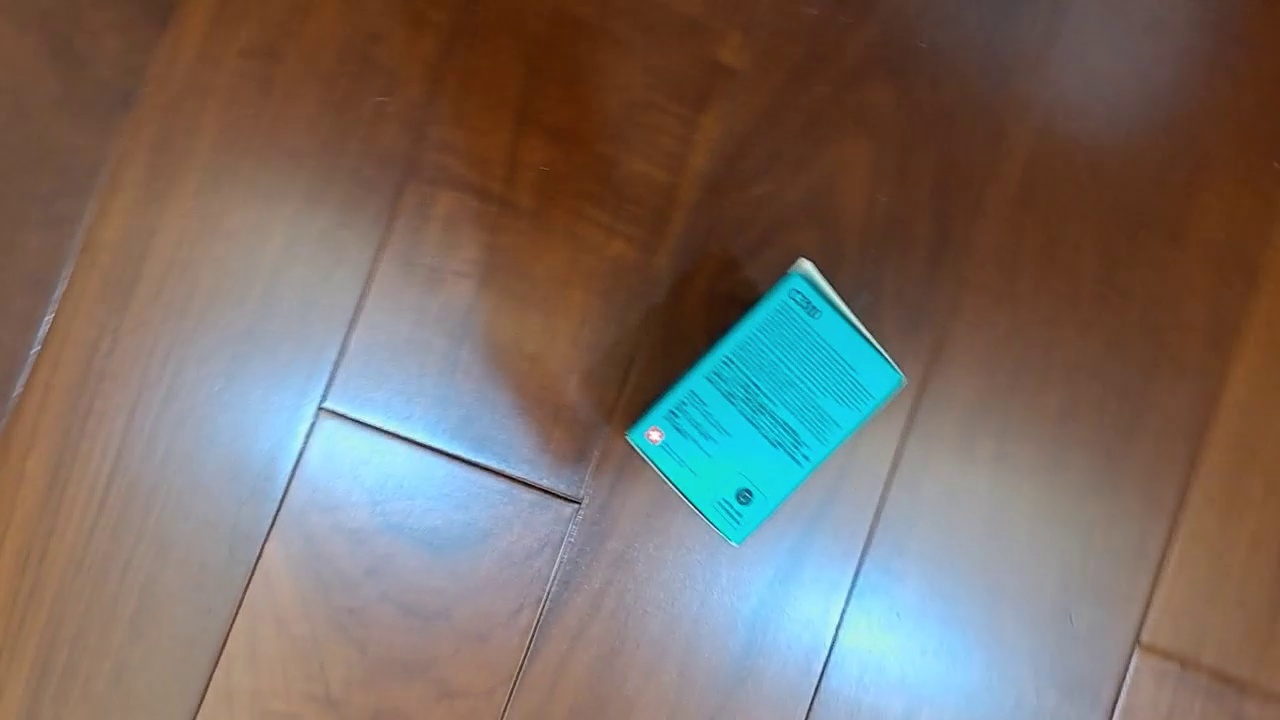webcam: (623, 255, 910, 549)
